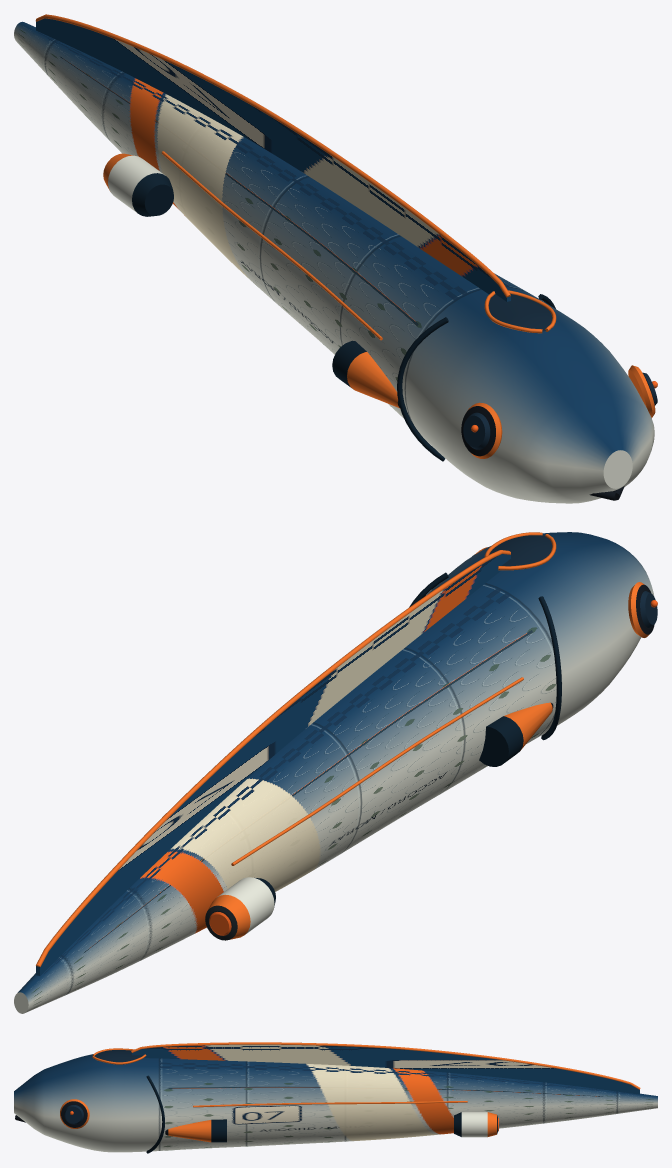
The picture shows the model from 3 angles, top to bottom: view 1: azimuth 30°, elevation 25°; view 2: azimuth 150°, elevation 25°; view 3: azimuth 270°, elevation 25°; orthographic projection. The views are drawn at different scales.
Parts seen in each view (by area): view 1: moray_hull; view 2: moray_hull; view 3: moray_hull.
Boxes of the visible parts, x1=… form: moray_hull: x1=14, y1=14, x2=657, y2=503; moray_hull: x1=14, y1=532, x2=657, y2=1013; moray_hull: x1=14, y1=1042, x2=657, y2=1153.
Bounding box in the file's own units: 7.55 × 7.56 × 42.
1 material, 1 textured.
